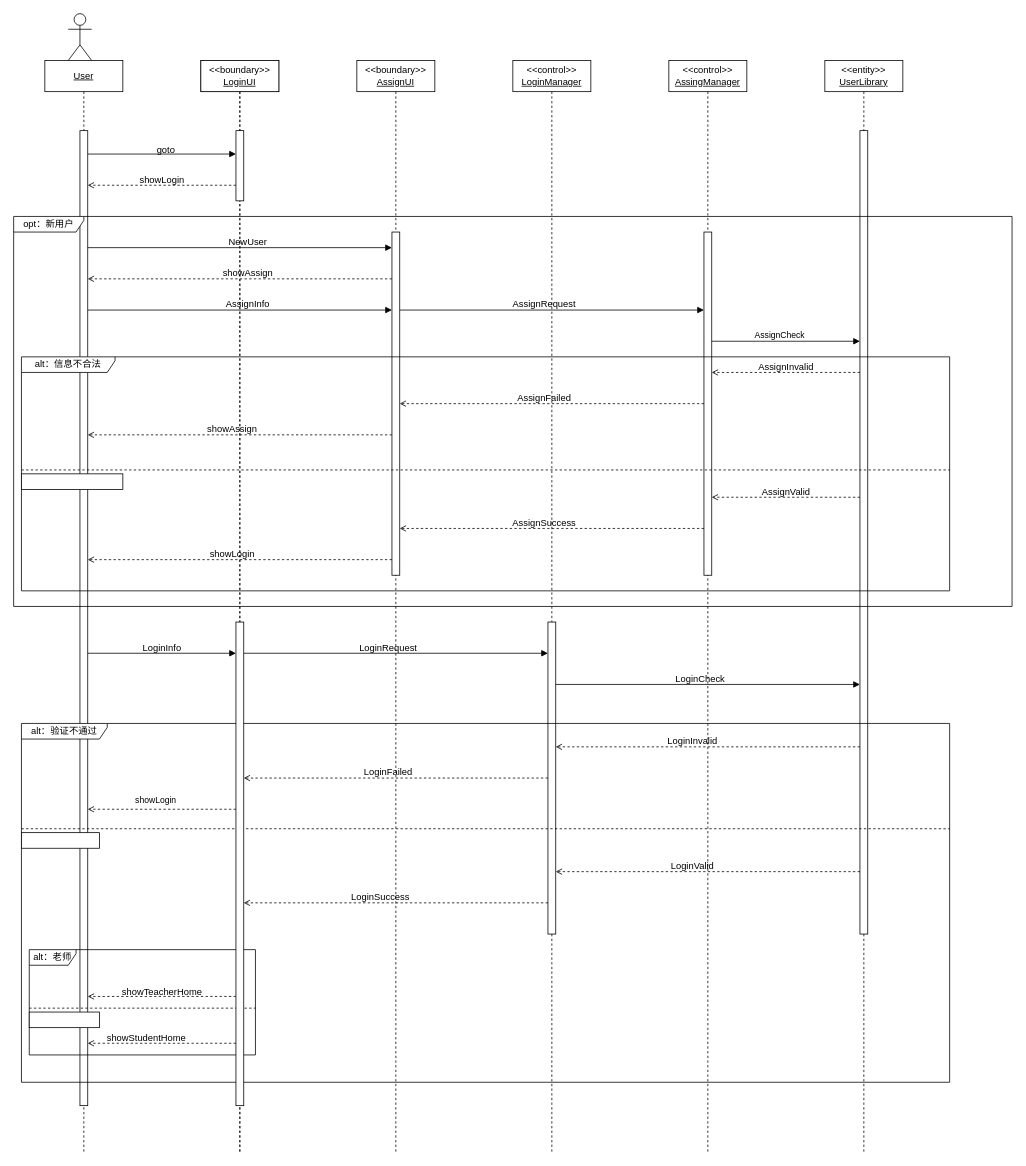
Image size: 1026x1166. Some labels were removed from this diagram. The shapes that lost their labels are listed below. From the top down, each one's centre as x and y in pixels, then its label:
At [72,481]: "else：信 息合法".
At [60,840]: "else：验证通过".
At [63,1019]: "else： 学生身份".
